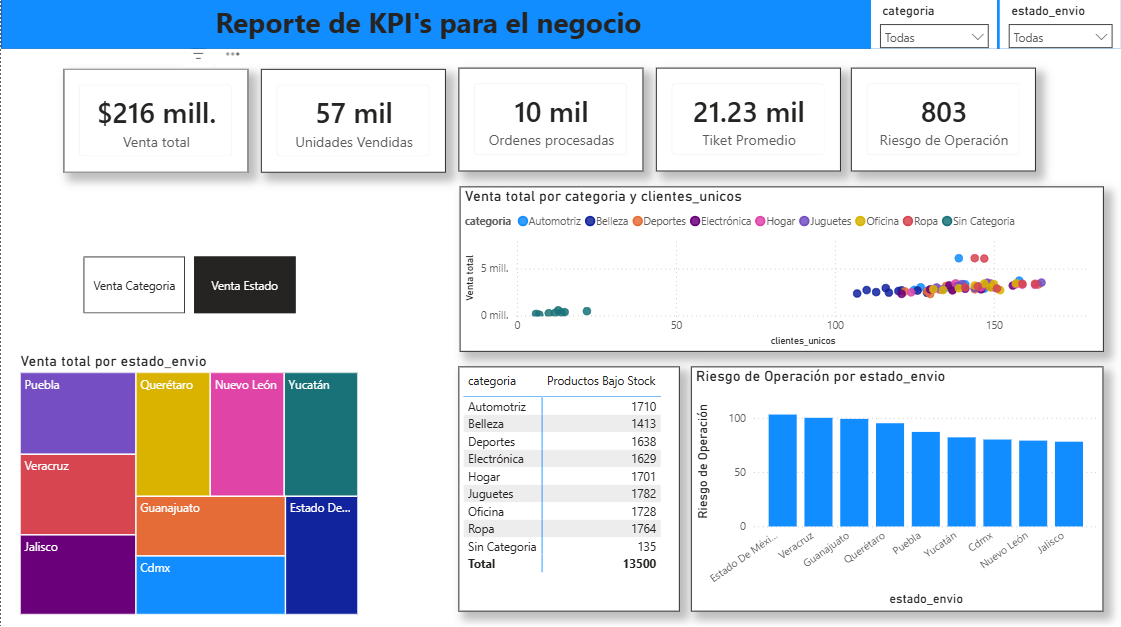

Layout of this report page (visuals, bound fields, positions):
{"tool":"powerbi","page":{"name":"Página 1","canvas":[1280,720],"ordinal":0},"visuals":[{"type":"cardVisual","fields":{"Data":["Medidas.Venta total"]},"box":[71.8,80,211.4,118.6],"z":0},{"type":"cardVisual","fields":{"Data":["Medidas.Unidades Vendidas"]},"box":[297.6,79.6,211.4,118.6],"z":1000},{"type":"cardVisual","fields":{"Data":["Medidas.Ordenes procesadas"]},"box":[523.3,78.9,211.4,118.6],"z":2000},{"type":"cardVisual","fields":{"Data":["Medidas.Tiket Promedio"]},"box":[749,78.6,211.4,118.6],"z":3000},{"type":"cardVisual","fields":{"Data":["Medidas.Riesgo de Operación"]},"box":[971.4,78.6,211.4,118.6],"z":4000},{"type":"treemap","fields":{"Group":["resumen_retail.estado_envio"],"Values":["Medidas.Venta total"]},"box":[17.1,402.9,395.7,305.7],"z":6000},{"type":"scatterChart","fields":{"X":["resumen_retail.clientes_unicos"],"Y":["Medidas.Venta total"],"Series":["resumen_retail.categoria"]},"box":[524.3,214.3,735.7,188.6],"z":7000},{"type":"bookmarkNavigator","box":[94.3,294.3,242.9,65.7],"z":8000},{"type":"pivotTable","fields":{"Rows":["resumen_retail.categoria"],"Values":["Medidas.Productos Bajo Stock"]},"box":[522.9,420,252.9,280],"z":9000},{"type":"shape","box":[0,0,1280,57.1],"z":9500},{"type":"columnChart","fields":{"Category":["resumen_retail.estado_envio"],"Y":["Medidas.Riesgo de Operación"]},"box":[788.6,420.1,471.4,280],"z":10000},{"type":"textbox","box":[240,0,565.7,57.1],"z":12000},{"type":"slicer","fields":{"Values":["resumen_retail.categoria"]},"box":[994.3,0,144.3,57.1],"z":12001},{"type":"slicer","fields":{"Values":["resumen_retail.estado_envio"]},"box":[1141.4,0,138.6,57.1],"z":12002}]}

Visuals, with their boxes in screenshot pixels (x1, y1, x2, y2), scaled from the page's 1280x720 canvas onto the 1121x627 screenshot:
cardVisual - Medidas.Venta total: 63 70 248 173
cardVisual - Medidas.Unidades Vendidas: 261 69 446 173
cardVisual - Medidas.Ordenes procesadas: 458 69 643 172
cardVisual - Medidas.Tiket Promedio: 656 68 841 172
cardVisual - Medidas.Riesgo de Operación: 851 68 1036 172
treemap - resumen_retail.estado_envio x Medidas.Venta total: 15 351 362 617
scatterChart - resumen_retail.clientes_unicos x Medidas.Venta total: 459 187 1103 351
bookmarkNavigator: 83 256 295 314
pivotTable - resumen_retail.categoria x Medidas.Productos Bajo Stock: 458 366 679 610
shape: 0 0 1120 50
columnChart - resumen_retail.estado_envio x Medidas.Riesgo de Operación: 691 366 1103 610
textbox: 210 0 706 50
slicer - resumen_retail.categoria: 871 0 997 50
slicer - resumen_retail.estado_envio: 1000 0 1120 50
